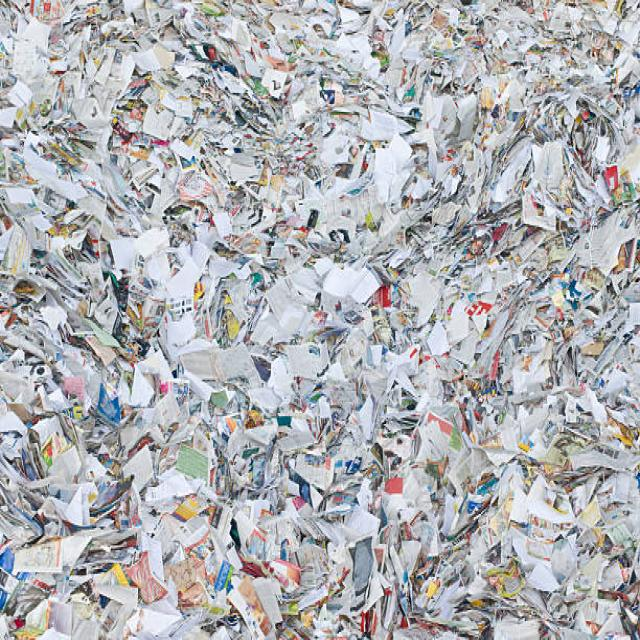trash: (9, 18, 628, 614)
